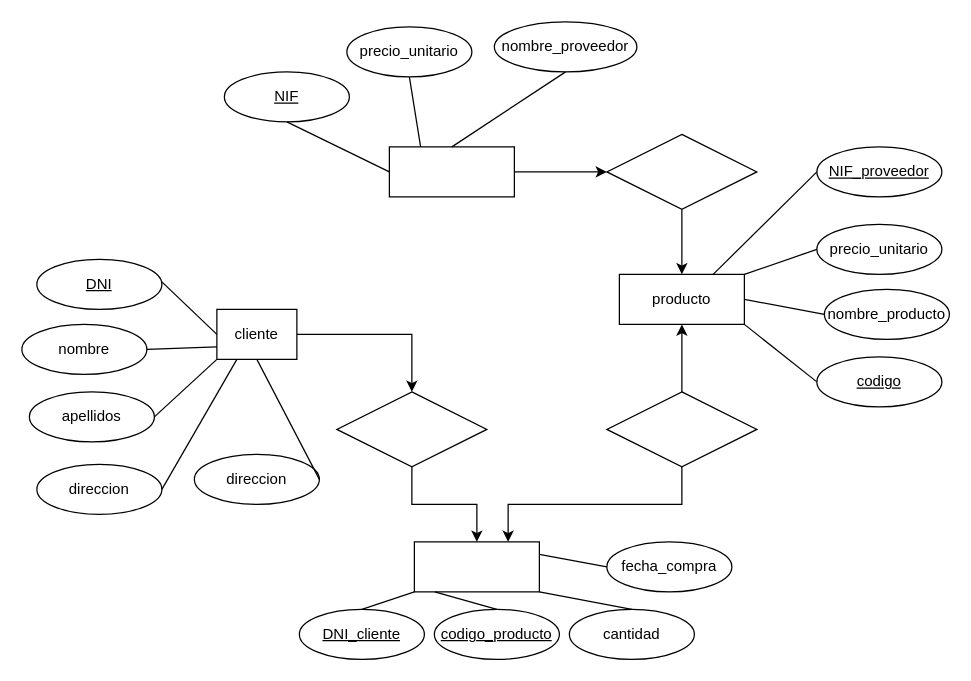
The diagram is 971 pixels wide and 681 high, and some of its shapes have lost their labels. The centre of each missing label's shape, as x and y in pixels:
compra: (476,566)
incluye: (681,429)
proveedor: (451,171)
realiza: (411,429)
suministra: (681,171)
